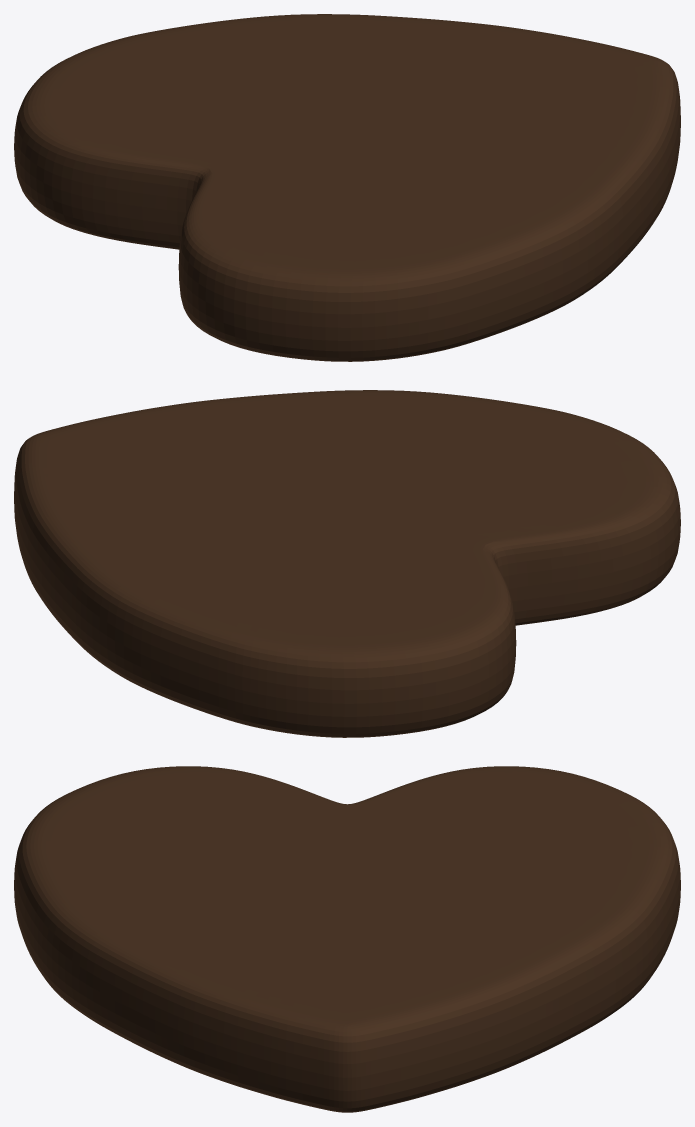
File: CakeLayer.glb
3 renders of one model, top to bottom at view 1: azimuth 30°, elevation 25°; view 2: azimuth 150°, elevation 25°; view 3: azimuth 270°, elevation 25°, orthographic.
Visible parts, largest first — view 1: Cylinder.005; view 2: Cylinder.005; view 3: Cylinder.005.
Part boxes in pixels (x1=…): Cylinder.005: x1=14, y1=14, x2=680, y2=361; Cylinder.005: x1=14, y1=390, x2=680, y2=737; Cylinder.005: x1=14, y1=766, x2=680, y2=1112.
Bounding box in the file's own units: 1.62 × 0.2409 × 1.66.
